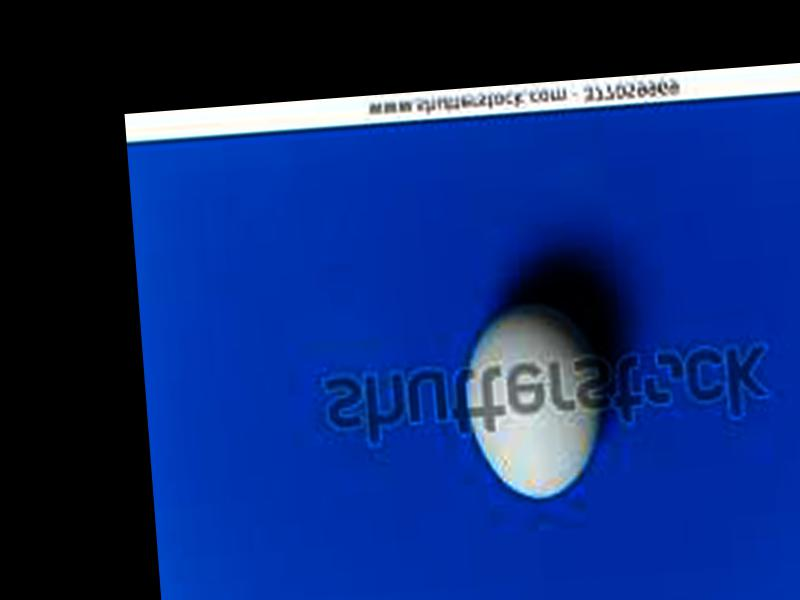Eggs: (463, 298, 609, 509)
